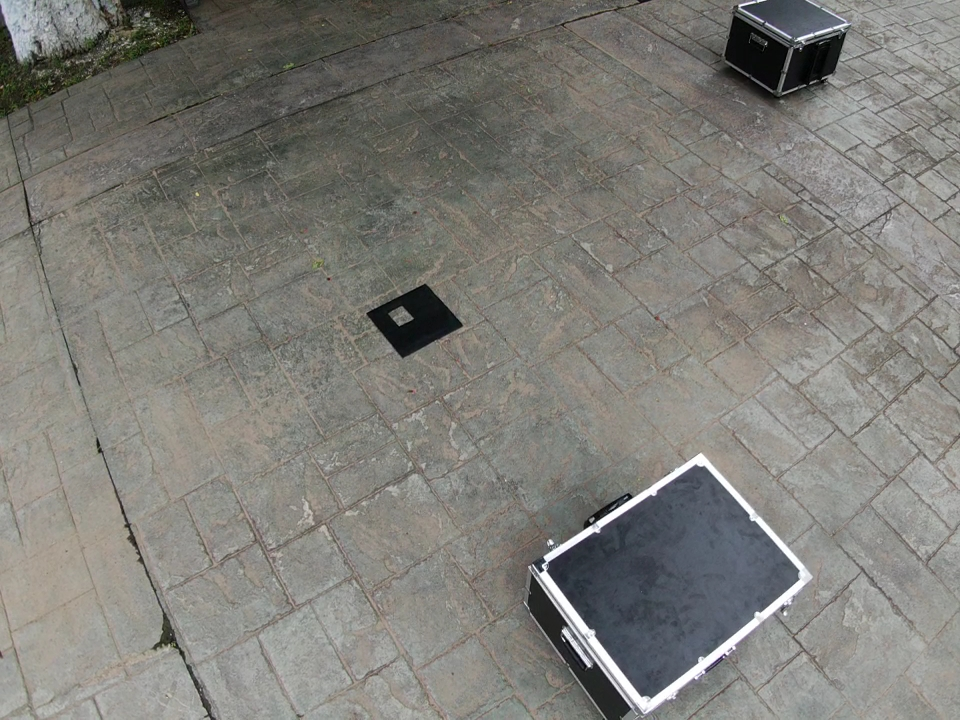box: (522, 453, 812, 720), (723, 1, 850, 95)
qrcode: (366, 284, 463, 358)
